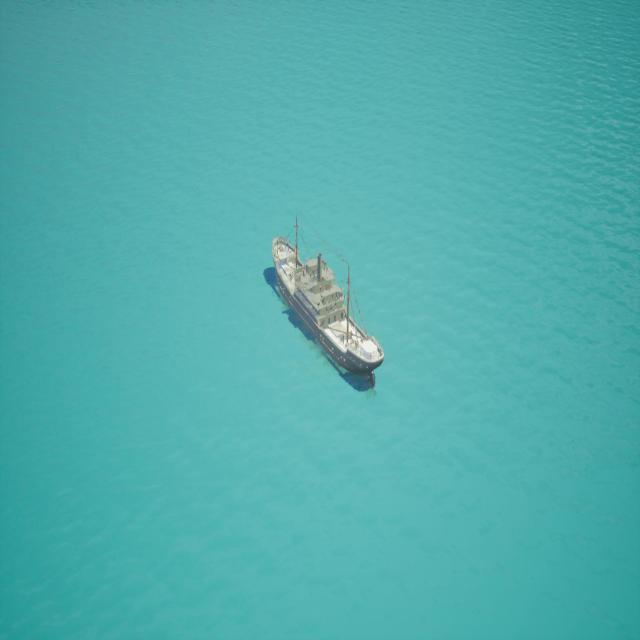fishing ship: (265, 215, 383, 390)
